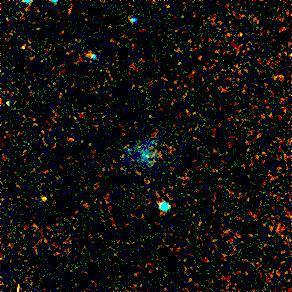star: (29, 186, 59, 216)
